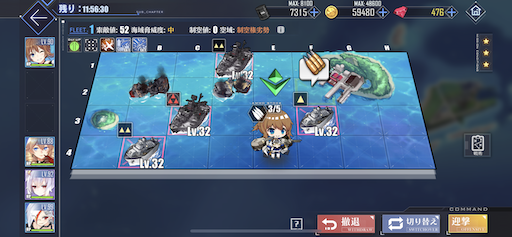lv1: (294, 92, 339, 134)
lv2: (117, 124, 162, 168), (212, 40, 255, 77)
lv3: (167, 93, 211, 134)
